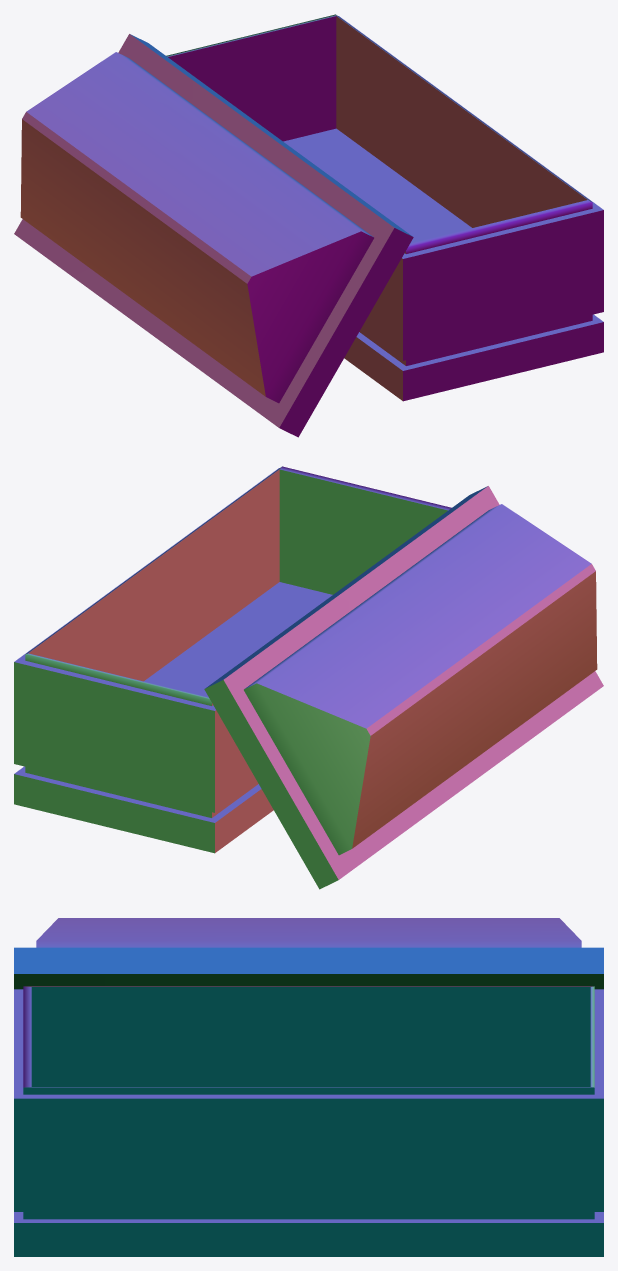
Rendered from grave7 (1).fbx.
The picture shows the model from 3 angles, top to bottom: view 1: azimuth 30°, elevation 25°; view 2: azimuth 150°, elevation 25°; view 3: azimuth 270°, elevation 25°; orthographic projection. The views are drawn at different scales.
Parts seen in each view (by area): view 1: pCube18; view 2: pCube18; view 3: pCube18.
Boxes of the visible parts, <box> form: pCube18: <box>14,14,603,437</box>; pCube18: <box>14,466,603,889</box>; pCube18: <box>14,918,603,1256</box>.
Bounding box in the file's own units: 1.94 × 1.02 × 2.64.
